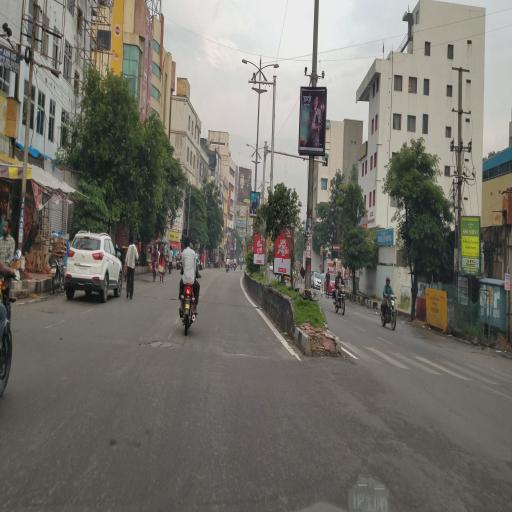street_light_0: (237, 44, 259, 88), (257, 51, 280, 85)
